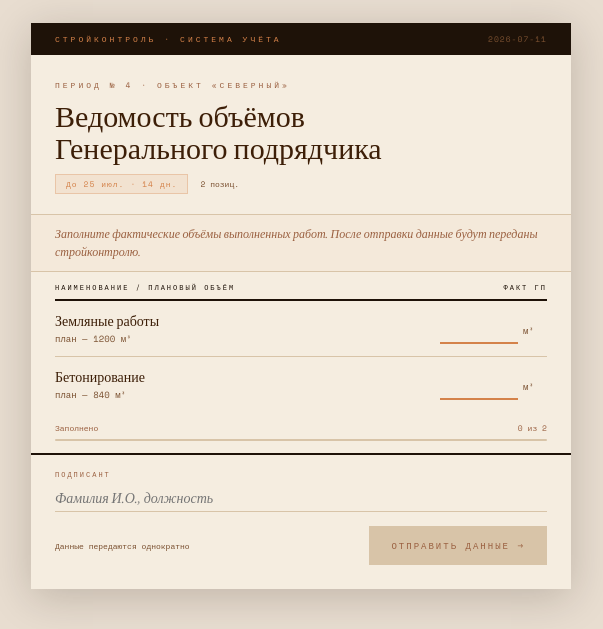
it: GpFormPage › значение 0 считается валидным
This screenshot has width=603, height=629.
Type "0" into the number field with test id "gp-volume-input" in the row of "Земляные работы". click: (479, 328)
box: [440,314,518,344]
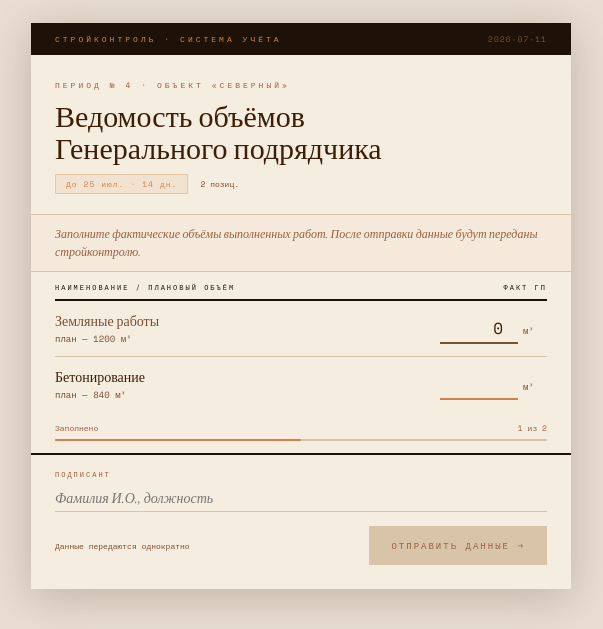
Type "800" into the number field with test id "gp-volume-input" in the row of "Бетонирование". click: (479, 384)
box: [440,370,518,400]
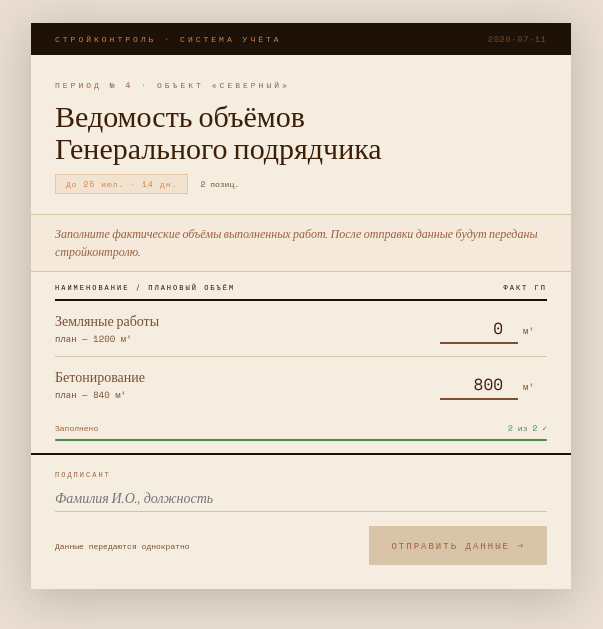
Type "Иванов" into the field with test id "gp-name-input". click: (301, 498)
box: [55,485,547,512]
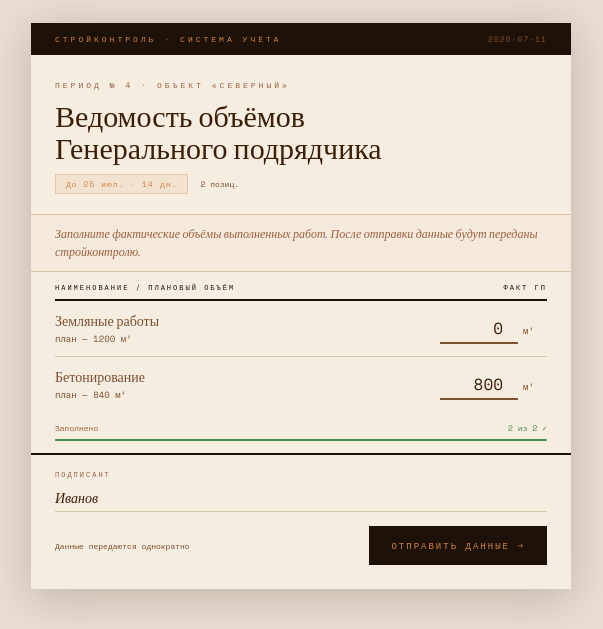
Check: the button with test id "gp-submit-btn" is enabled, box [370,526,547,565]
